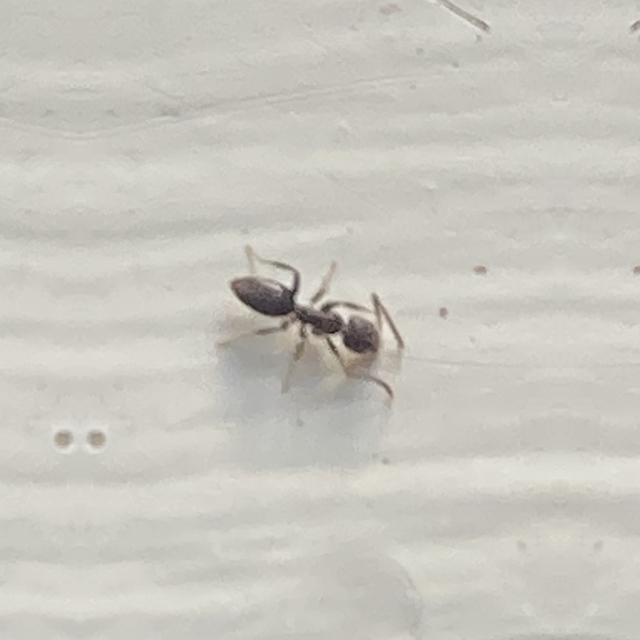Tapinoma: (220, 241, 408, 393)
